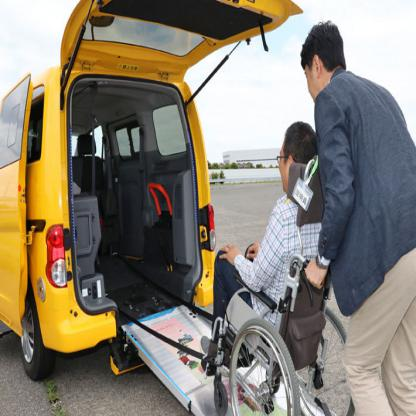wheelchair: (199, 122, 362, 415)
